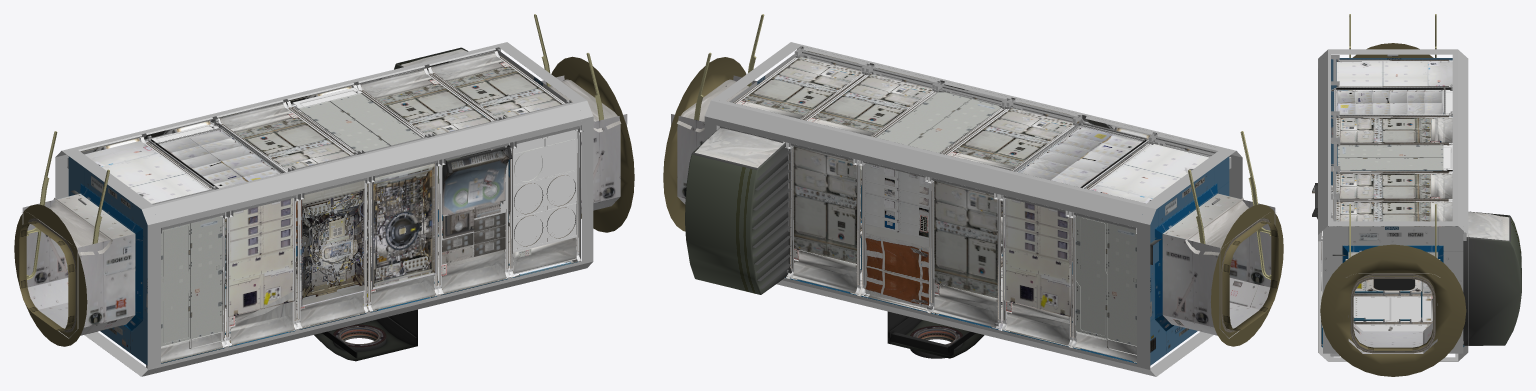
Rendered from us_lab.dae.
3 views of the same model, side by side, from view 1: azimuth 30°, elevation 25°; view 2: azimuth 150°, elevation 25°; view 3: azimuth 270°, elevation 25° (orthographic). The views are drawn at different scales.
Parts seen in each view (by area): view 1: US_Lab_Int_AFT_Bulkhead; view 2: US_Lab_Int_AFT_Bulkhead; view 3: US_Lab_Int_AFT_Bulkhead.
Boxes of the visible parts, x1=… form: US_Lab_Int_AFT_Bulkhead: x1=14, y1=14, x2=634, y2=376; US_Lab_Int_AFT_Bulkhead: x1=663, y1=14, x2=1283, y2=376; US_Lab_Int_AFT_Bulkhead: x1=1312, y1=14, x2=1521, y2=376.
Bounding box in the file's own units: 7.73 × 3.11 × 3.51.
9 materials, 9 textured.
